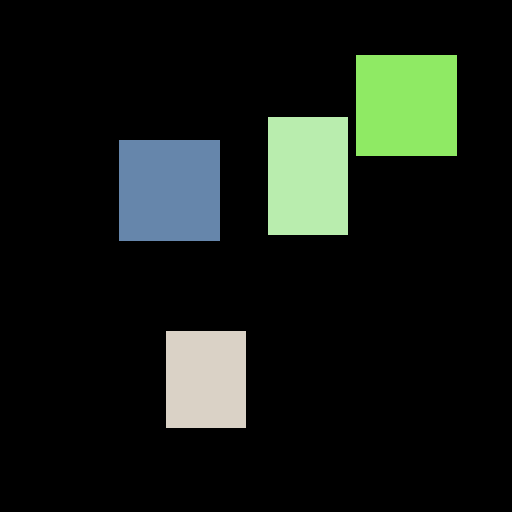rectangle: (268, 117, 347, 234), (166, 331, 245, 427)
square: (119, 140, 219, 240), (356, 55, 456, 155)
